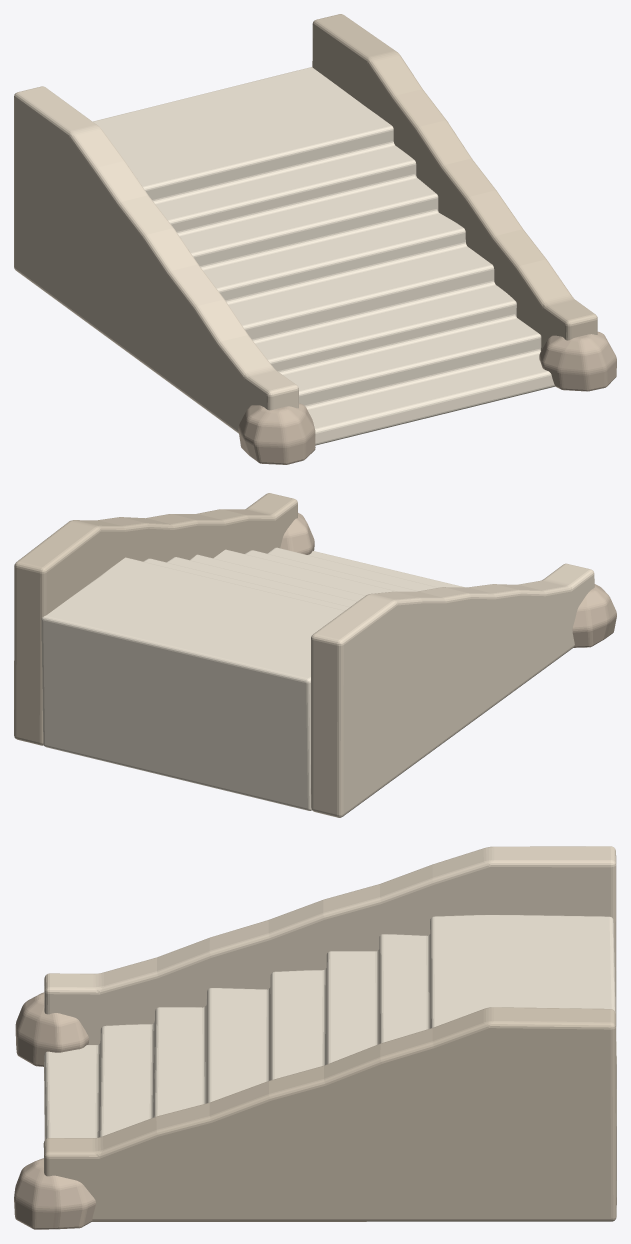
File: KFB_TOWN_CASTLE_CLAY_STAIRS_R1.glb
The picture shows the model from 3 angles, top to bottom: view 1: azimuth 30°, elevation 25°; view 2: azimuth 150°, elevation 25°; view 3: azimuth 270°, elevation 25°; orthographic projection. The views are drawn at different scales.
Visible parts, largest first — view 1: KFB_ClayStair_Core, KFB_ClayStair_Wall_L, KFB_ClayStair_Wall_R, KFB_ClayStair_Buttress_L, KFB_ClayStair_Buttress_R; view 2: KFB_ClayStair_Core, KFB_ClayStair_Wall_L, KFB_ClayStair_Wall_R, KFB_ClayStair_Buttress_L, KFB_ClayStair_Buttress_R; view 3: KFB_ClayStair_Wall_R, KFB_ClayStair_Core, KFB_ClayStair_Wall_L, KFB_ClayStair_Buttress_R, KFB_ClayStair_Buttress_L.
Part boxes in pixels (box(x1,y1,x2,y2)): KFB_ClayStair_Core: box(93, 67, 554, 445); KFB_ClayStair_Wall_L: box(14, 86, 298, 433); KFB_ClayStair_Wall_R: box(312, 14, 597, 350); KFB_ClayStair_Buttress_L: box(238, 403, 315, 464); KFB_ClayStair_Buttress_R: box(539, 331, 616, 391); KFB_ClayStair_Core: box(41, 547, 464, 810); KFB_ClayStair_Wall_L: box(311, 563, 594, 817); KFB_ClayStair_Wall_R: box(14, 493, 297, 745); KFB_ClayStair_Buttress_L: box(572, 584, 616, 647); KFB_ClayStair_Buttress_R: box(280, 513, 314, 554); KFB_ClayStair_Wall_R: box(43, 1007, 616, 1221); KFB_ClayStair_Core: box(44, 915, 616, 1196); KFB_ClayStair_Wall_L: box(44, 846, 616, 1044); KFB_ClayStair_Buttress_R: box(14, 1158, 95, 1229); KFB_ClayStair_Buttress_L: box(15, 992, 89, 1066).
Bounding box in the file's own units: 14.75 × 6.96 × 18.94.
